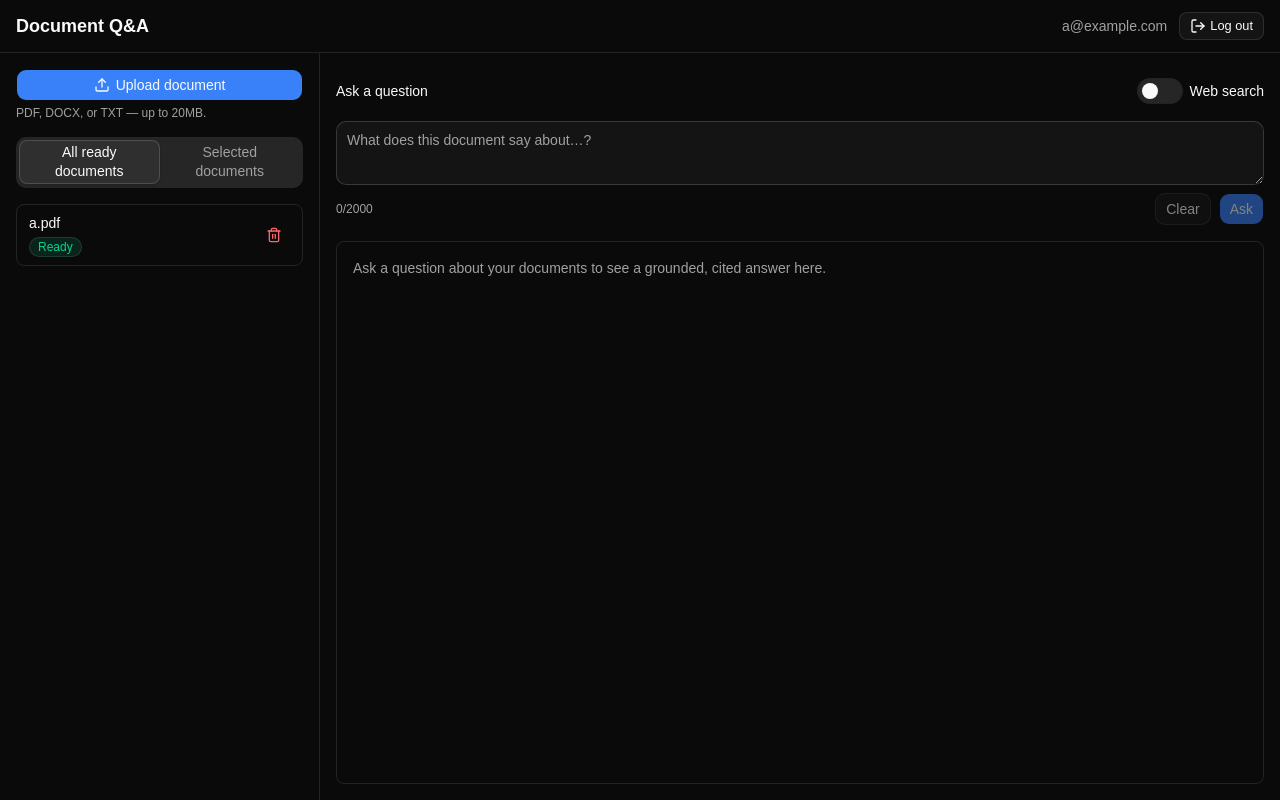
Test: WorkspacePage selection modes › disables Ask in "Selected documents" mode until a document is checked
The image size is (1280, 800).
Expected: the button "Ask" is shown, [1219,193,1264,225]
Click the tab "Selected documents" at (230, 162), box [160,140,300,184]
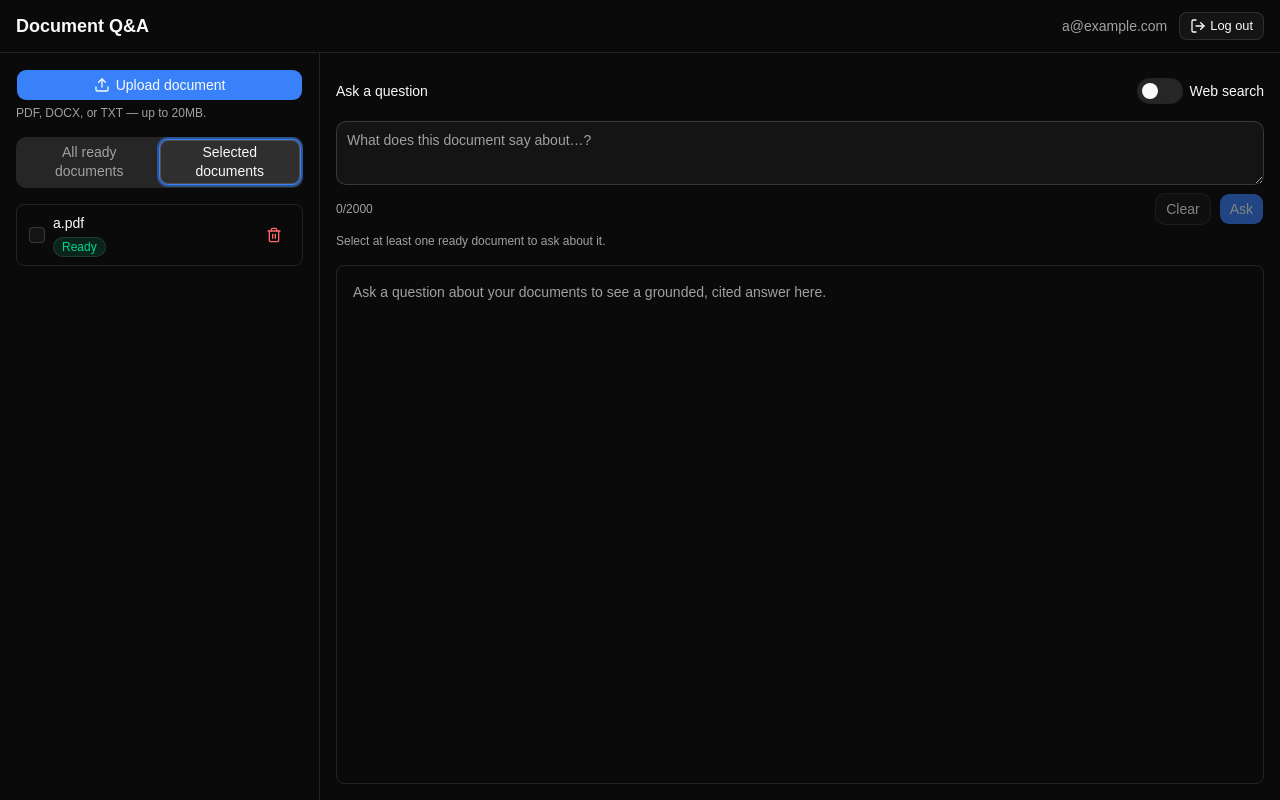
Type "What is this about?" into the text box labelled "Ask a question" at (800, 153), box [336,121,1264,185]
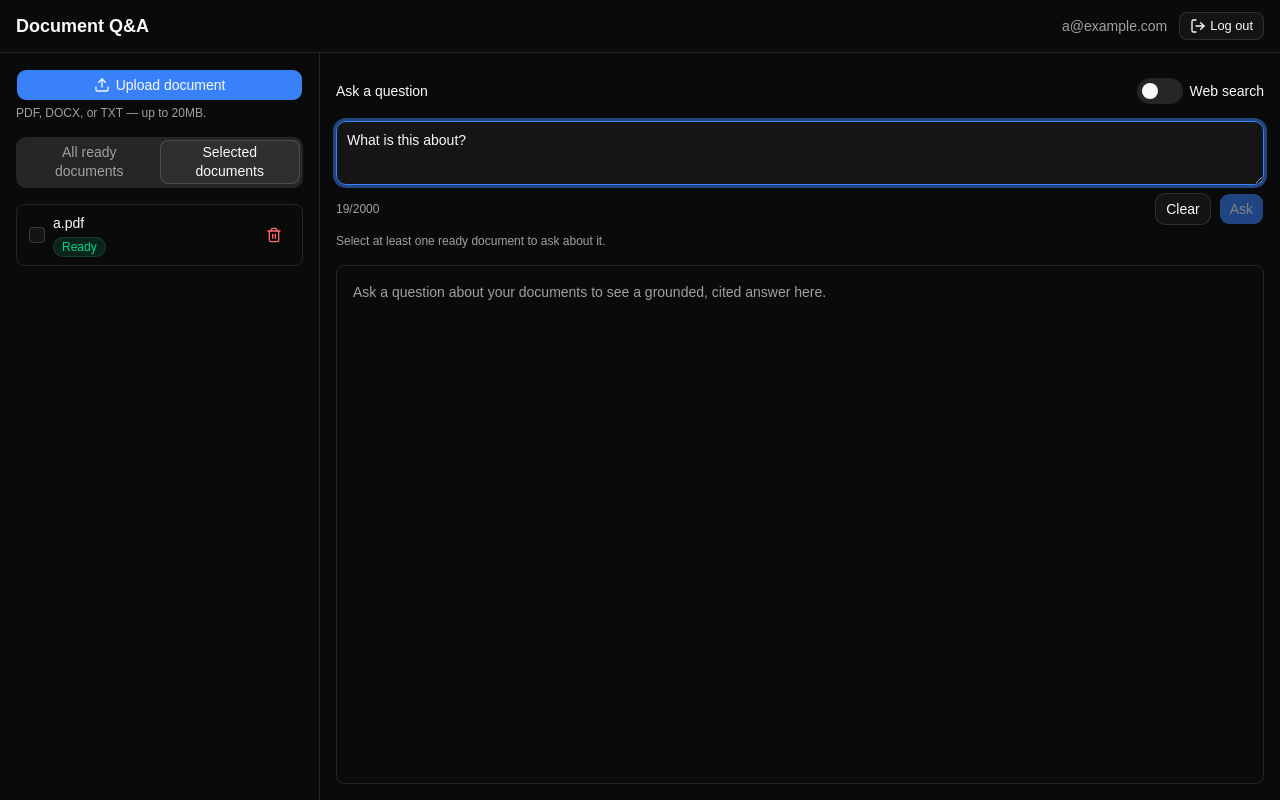
Expected: the button "Ask" is disabled, [1219,193,1264,225]
Result: the text "Select at least one ready document to ask about it." is shown at [336,234,606,248]
Click the checkbox named "select a.pdf" at (37, 234), box [29,226,45,242]
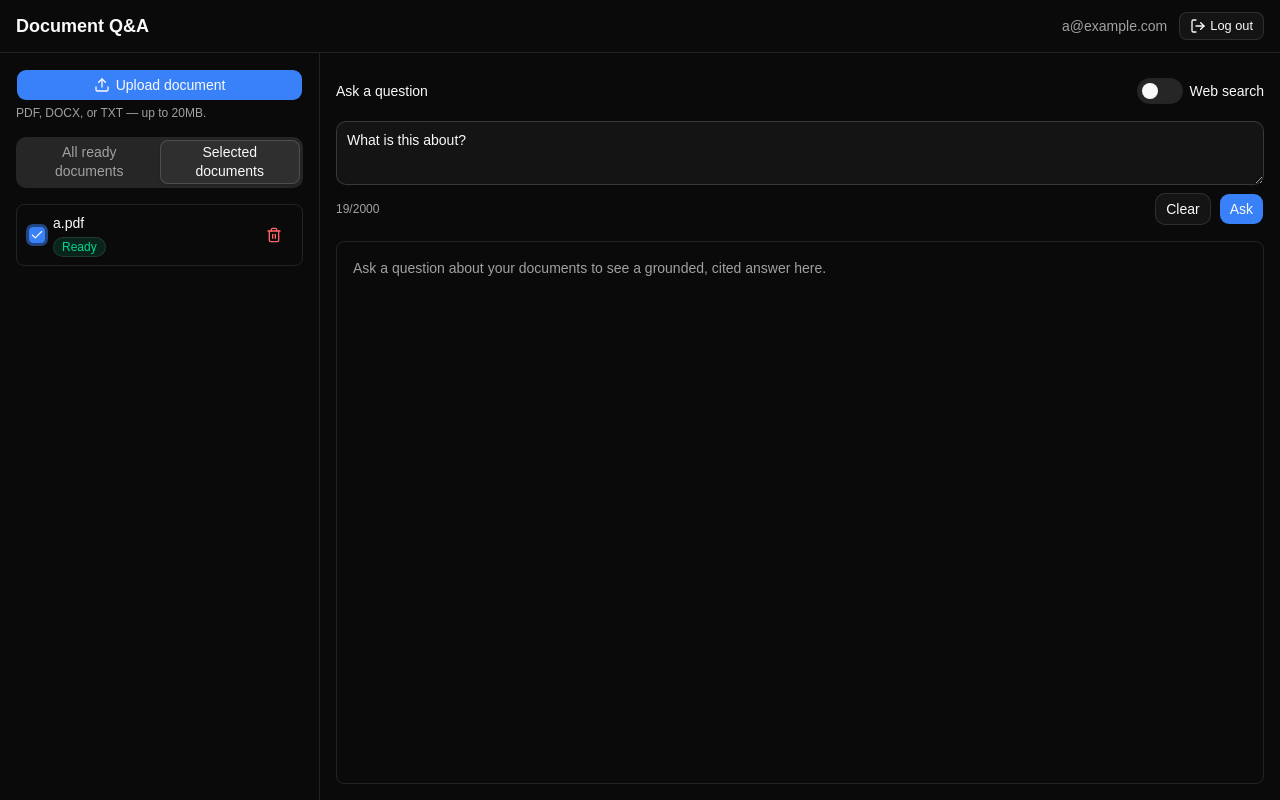
Result: the button "Ask" is enabled at [1219,193,1264,225]
